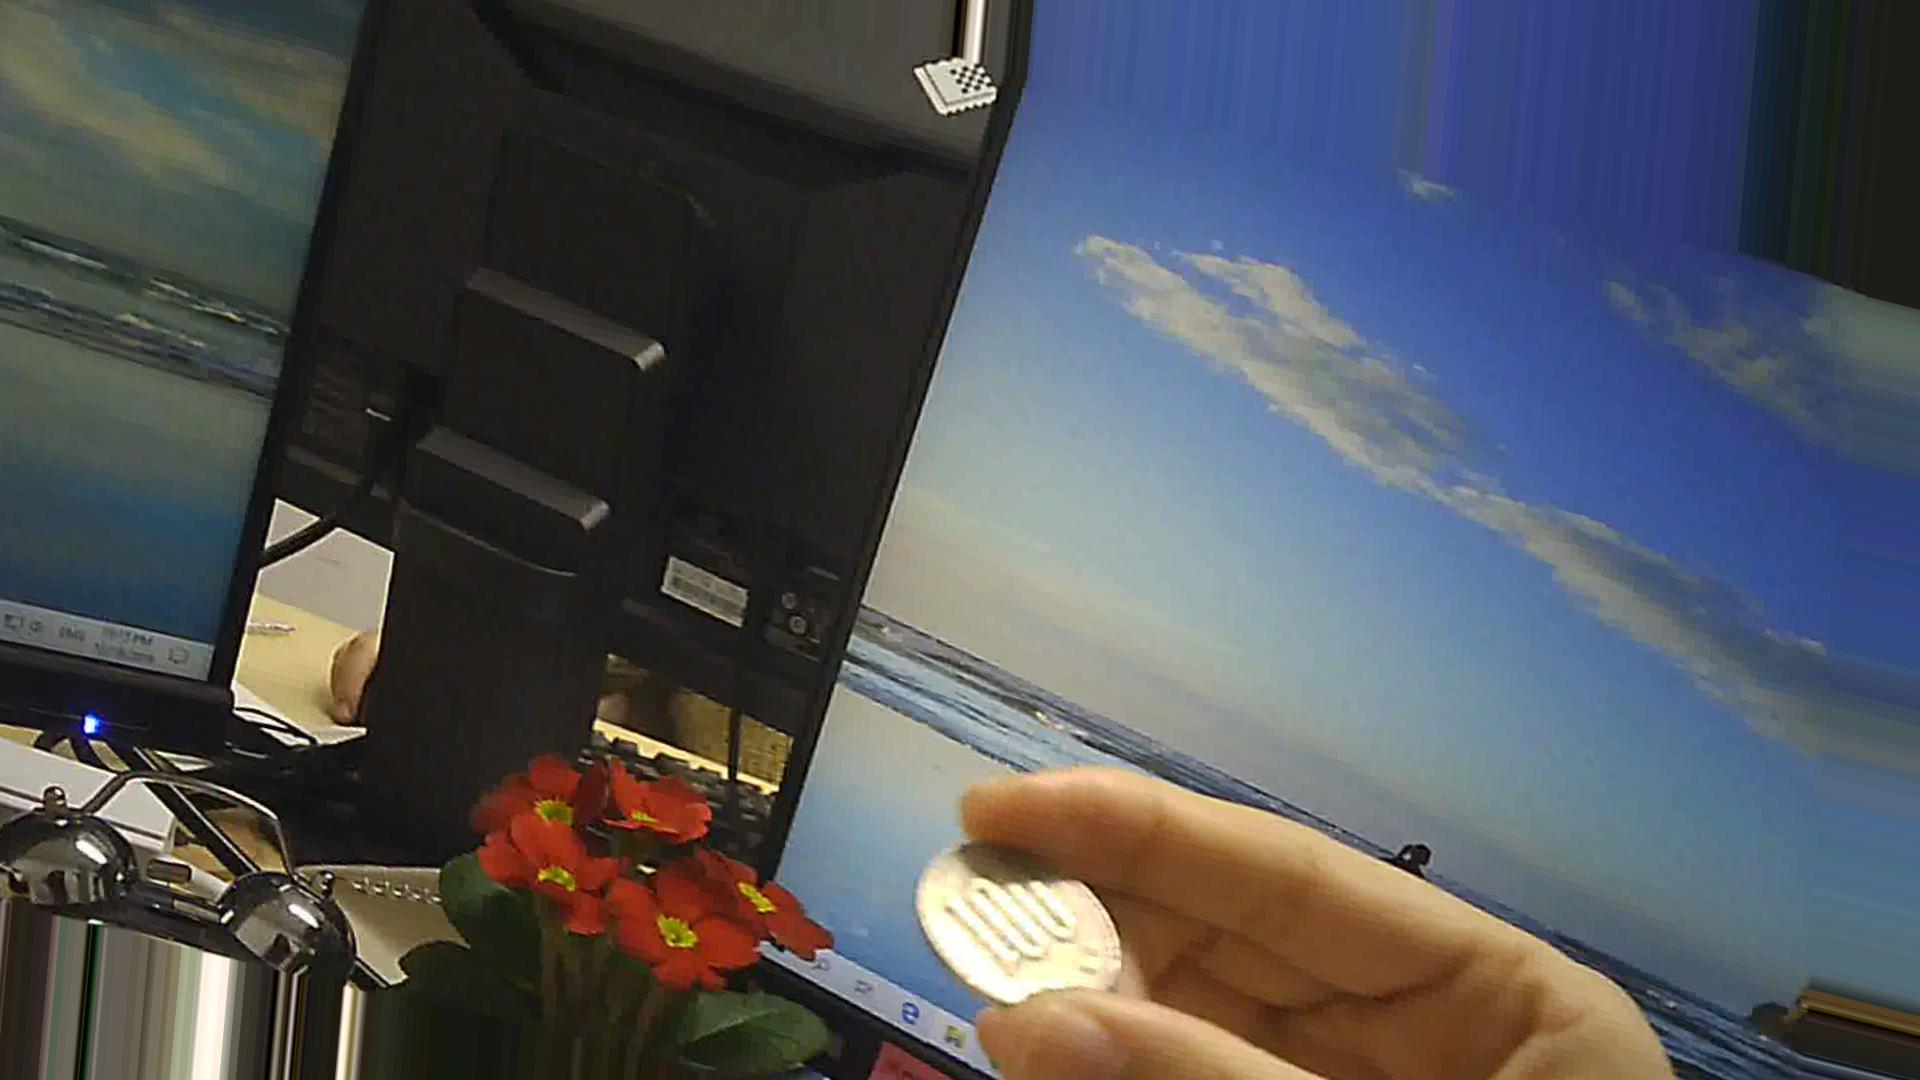100 Yen: (907, 824, 1127, 1021)
